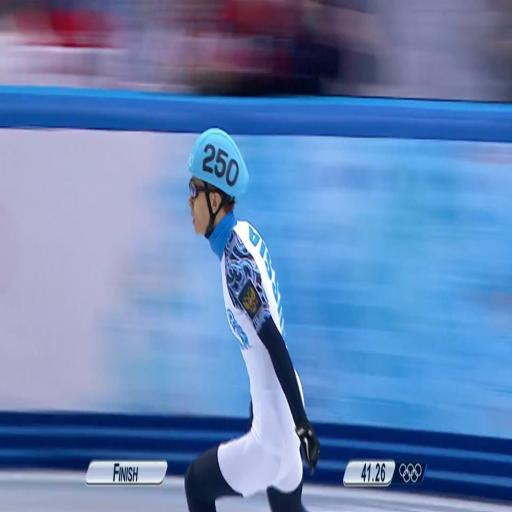Skater: (185, 129, 319, 511)
